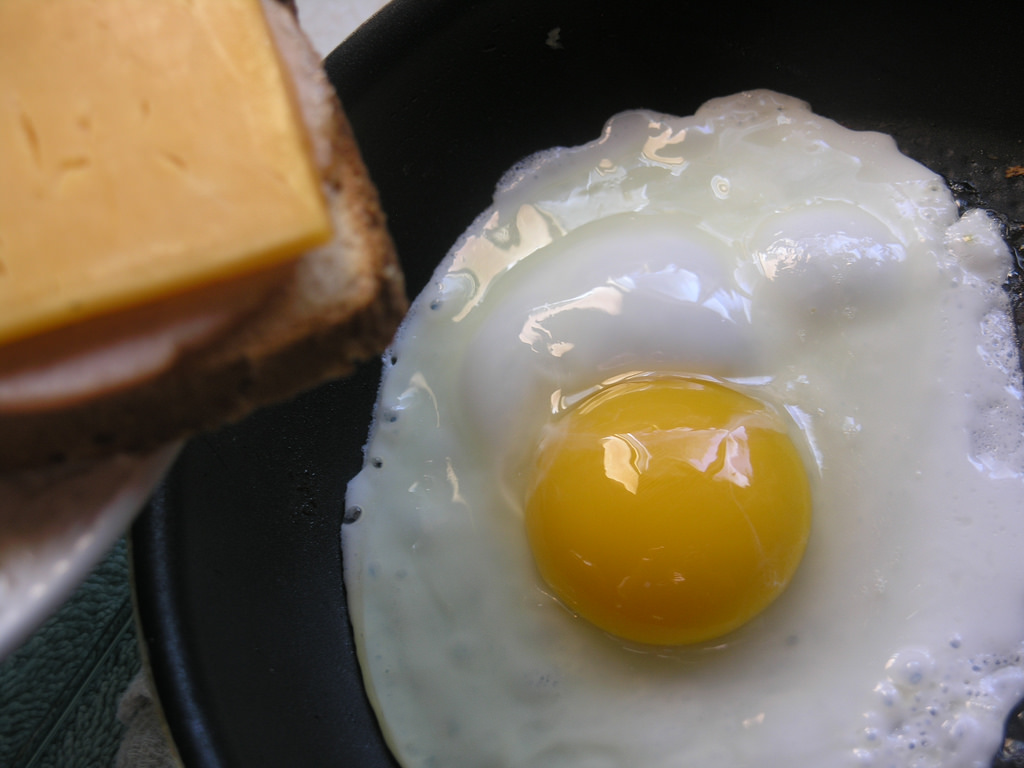fried egg: (452, 148, 909, 740)
